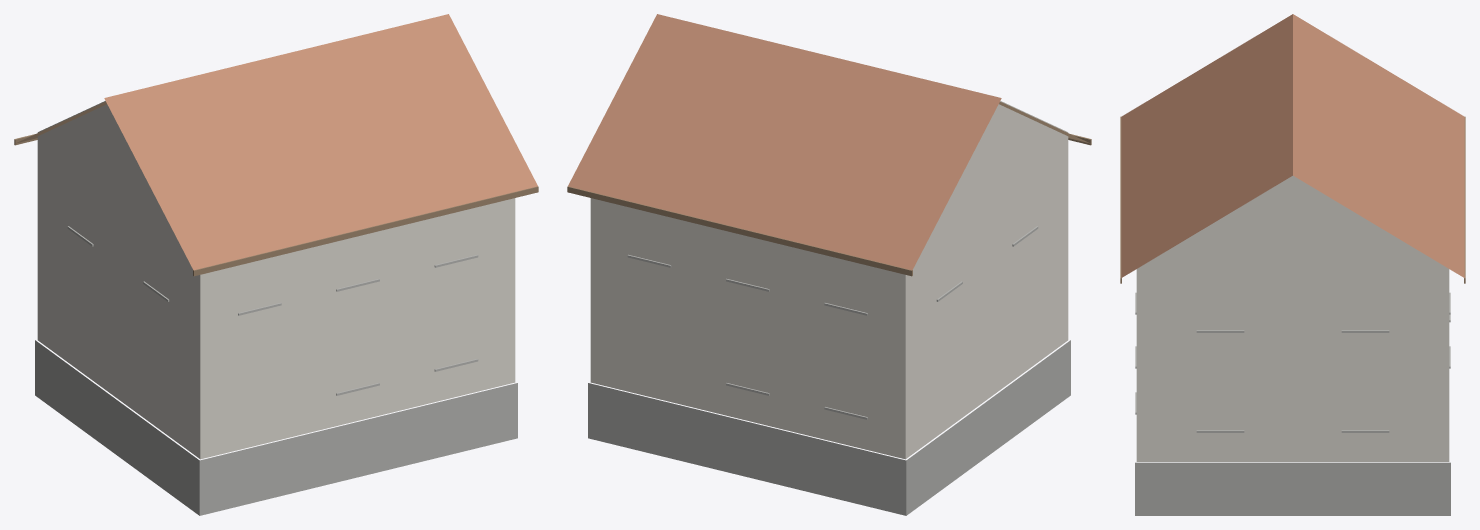
The model's file is house2.glb.
3 views of the same model, side by side, from view 1: azimuth 30°, elevation 25°; view 2: azimuth 150°, elevation 25°; view 3: azimuth 270°, elevation 25° (orthographic). The views are drawn at different scales.
Visible parts, largest first — view 1: hi, far; view 2: hi, far; view 3: hi, far.
Boxes of the visible parts, x1,y1,x2,y2 form: hi: (14, 14, 538, 515); far: (37, 161, 515, 458); hi: (567, 14, 1091, 515); far: (590, 132, 1068, 458); hi: (1120, 14, 1465, 515); far: (1136, 262, 1449, 461).
Bounding box in the file's own units: 10.4 × 10.41 × 9.4.
